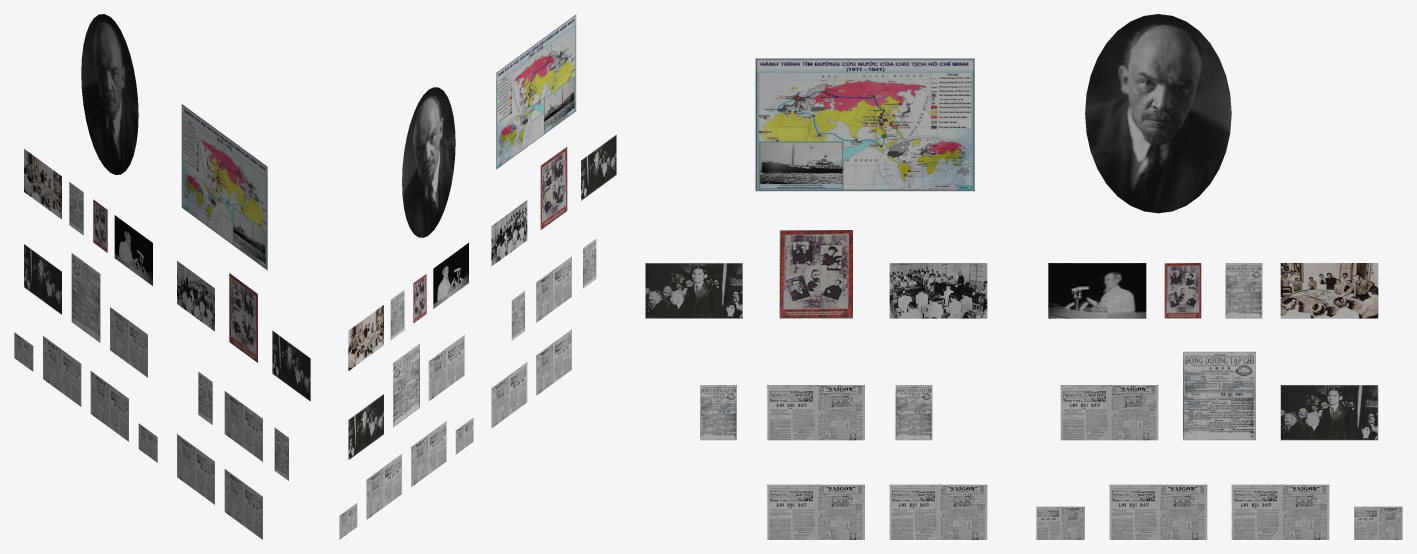
File: PhongThuHai_DA.glb
The picture shows the model from 3 angles, left to right: view 1: azimuth 30°, elevation 25°; view 2: azimuth 150°, elevation 25°; view 3: azimuth 270°, elevation 25°; orthographic projection. The views are drawn at different scales.
Visible parts, largest first — view 1: Plane.004, Circle, Plane.010, Plane.015, Plane.011, Plane.020, Plane.044, Plane.017, Plane.001, Plane.014, Plane.022, Plane.003 (+9 smaller); view 2: Plane.004, Circle, Plane.015, Plane.010, Plane.009, Plane.022, Plane.019, Plane.001, Plane.044, Plane.011, Plane.014, Plane.020 (+9 smaller); view 3: Plane.004, Circle, Plane.015, Plane.010, Plane.007, Plane.011, Plane.019, Plane.044, Plane.022, Plane.003, Plane.001, Plane.009 (+9 smaller).
Part boxes in pixels (<box>): Plane.004: <box>181,104,267,270</box>; Circle: <box>81,14,138,174</box>; Plane.010: <box>71,253,100,342</box>; Plane.015: <box>229,273,257,362</box>; Plane.011: <box>114,215,152,285</box>; Plane.020: <box>272,330,310,401</box>; Plane.044: <box>43,336,81,406</box>; Plane.017: <box>224,391,262,461</box>; Plane.001: <box>90,371,128,441</box>; Plane.014: <box>224,469,262,539</box>; Plane.022: <box>177,434,214,504</box>; Plane.003: <box>24,244,61,314</box>; Plane.004: <box>496,14,576,169</box>; Circle: <box>402,87,455,237</box>; Plane.015: <box>540,146,567,229</box>; Plane.010: <box>393,343,419,427</box>; Plane.009: <box>428,335,464,401</box>; Plane.022: <box>491,362,527,428</box>; Plane.019: <box>491,200,527,266</box>; Plane.001: <box>411,421,446,487</box>; Plane.044: <box>366,454,401,519</box>; Plane.011: <box>433,243,468,308</box>; Plane.014: <box>536,329,571,395</box>; Plane.020: <box>581,134,616,200</box>; Plane.004: <box>755,58,974,191</box>; Circle: <box>1085,14,1231,213</box>; Plane.015: <box>779,230,852,318</box>; Plane.010: <box>1183,351,1255,440</box>; Plane.007: <box>1280,263,1378,318</box>; Plane.011: <box>1048,263,1146,318</box>; Plane.019: <box>889,263,987,318</box>; Plane.044: <box>1231,484,1329,539</box>; Plane.022: <box>889,484,987,539</box>; Plane.003: <box>1280,385,1378,440</box>; Plane.001: <box>1109,484,1207,539</box>; Plane.009: <box>1060,385,1158,440</box>.
Size of the model in its own units: 0 by 2.37 by 3.1.
Materials: 22 (22 with a texture image).
